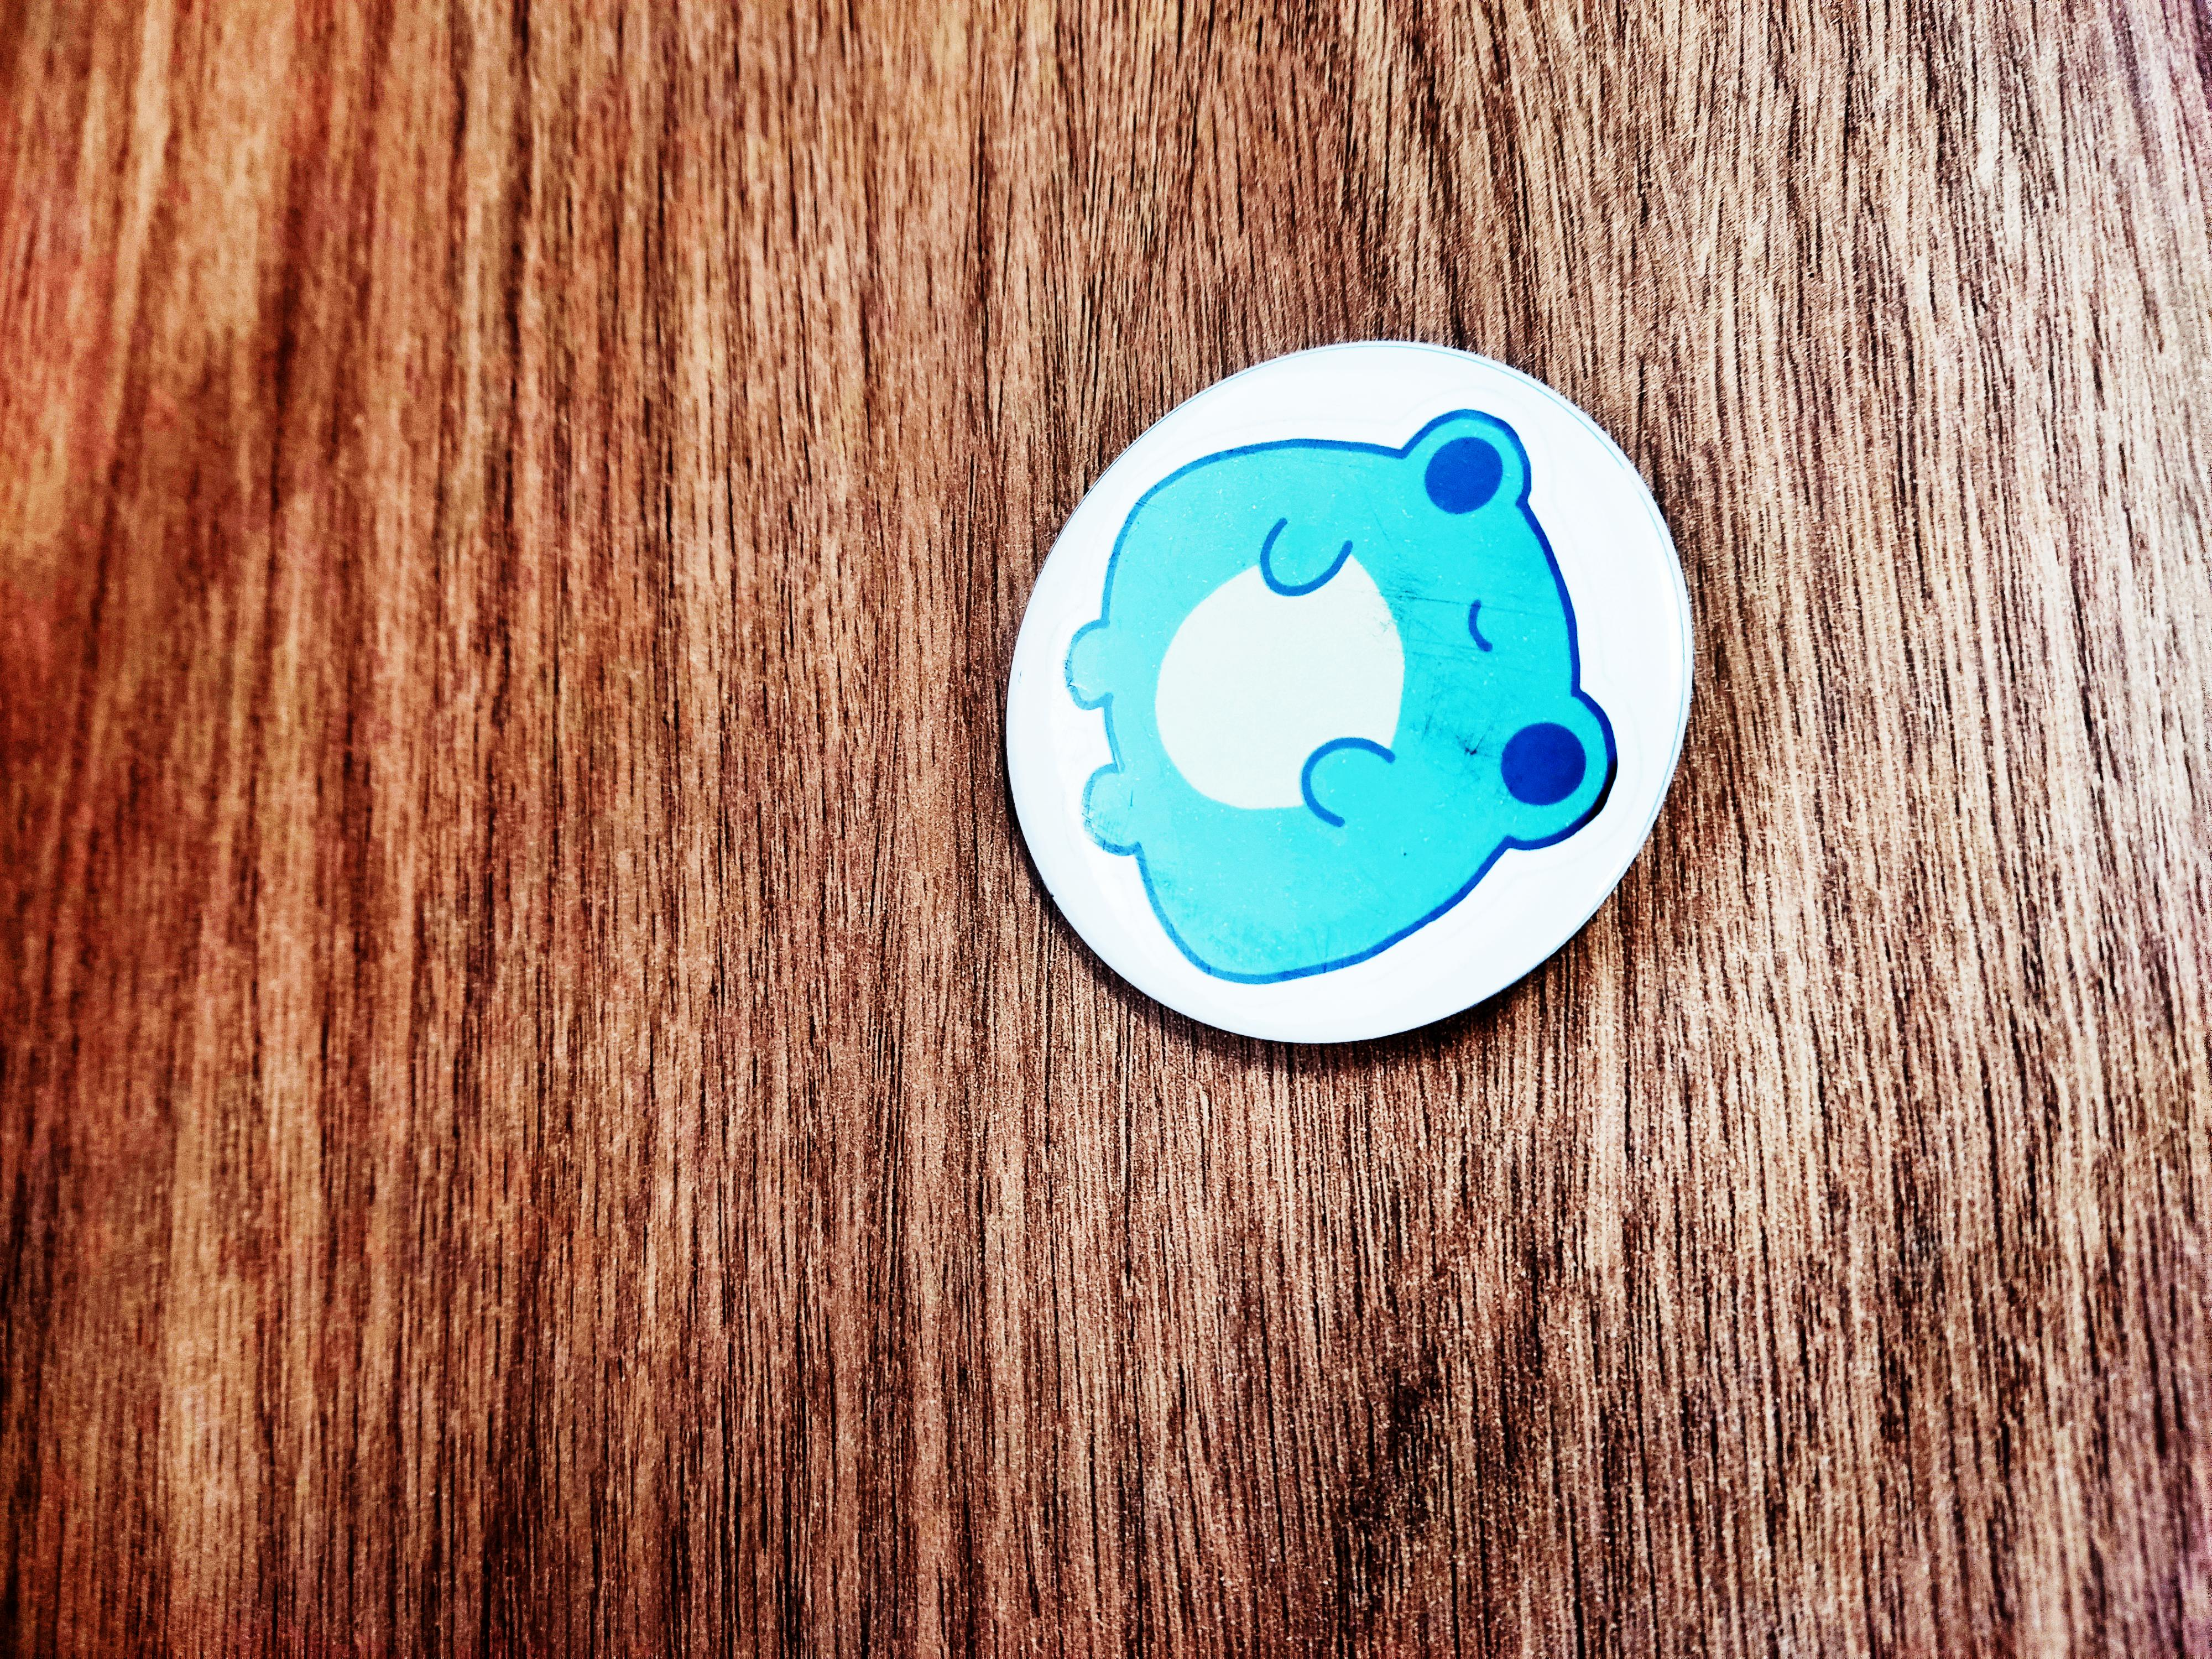pin: (995, 345, 1730, 1053)
